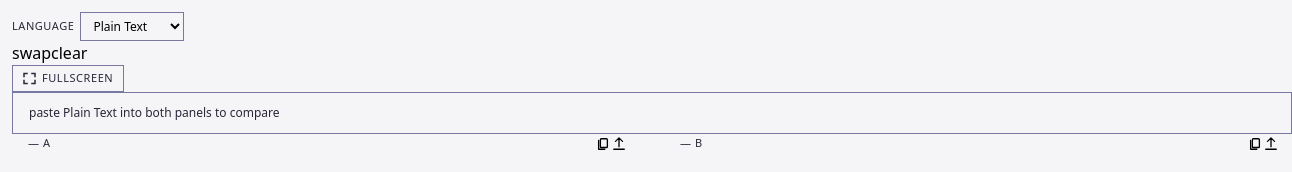
Test case: MasterComparator › language switching › language switch updates status bar placeholder
Select "YAML" in the dropdown at (132, 26), box [80,12,184,41]
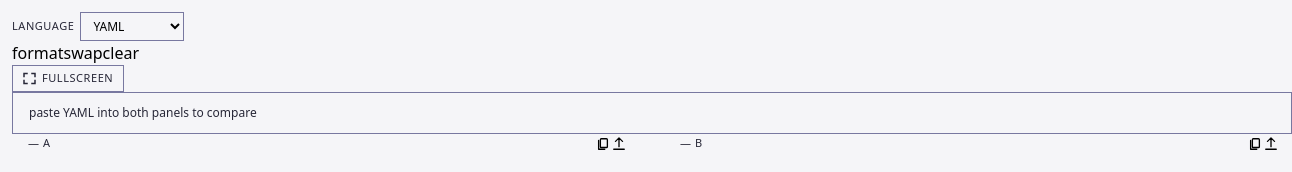
Check: the text "paste YAML into both panels to compare" is shown, box [29,104,257,120]
